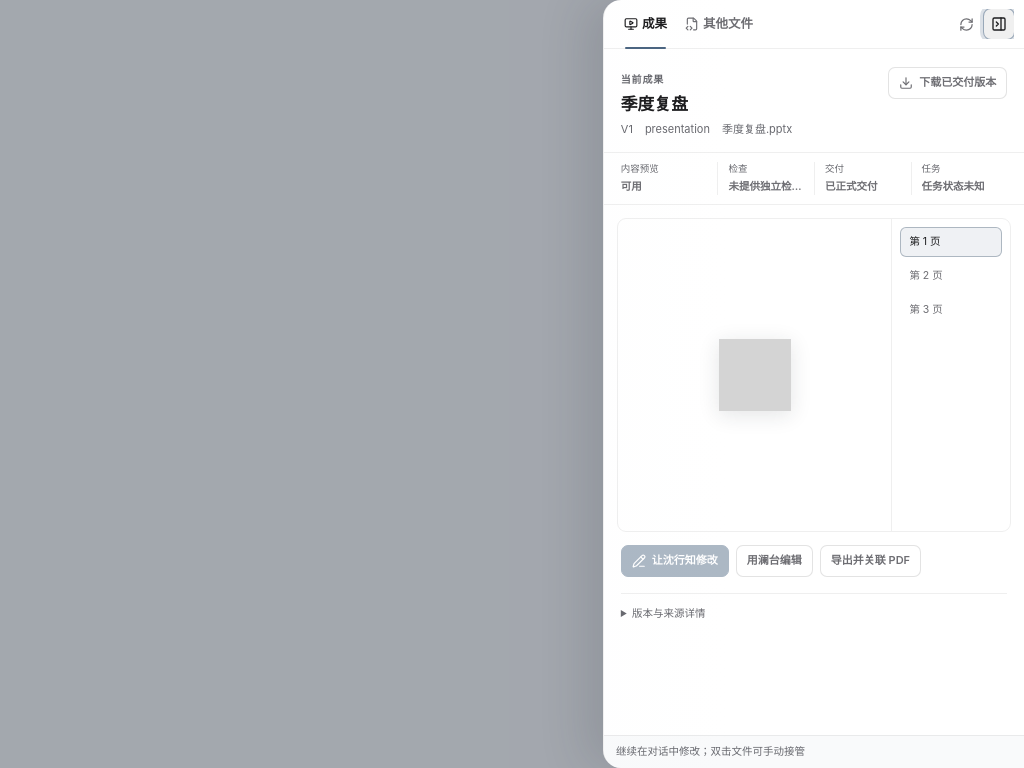
it: ChatArtifactPanel › exports a presentation as an explicitly related PDF without replacing the primary
The image size is (1024, 768).
Check: the heading "季度复盘" is shown, box [621,94,688,114]
Click the button "导出并关联 PDF".
click(870, 561)  # box [820,545,921,577]
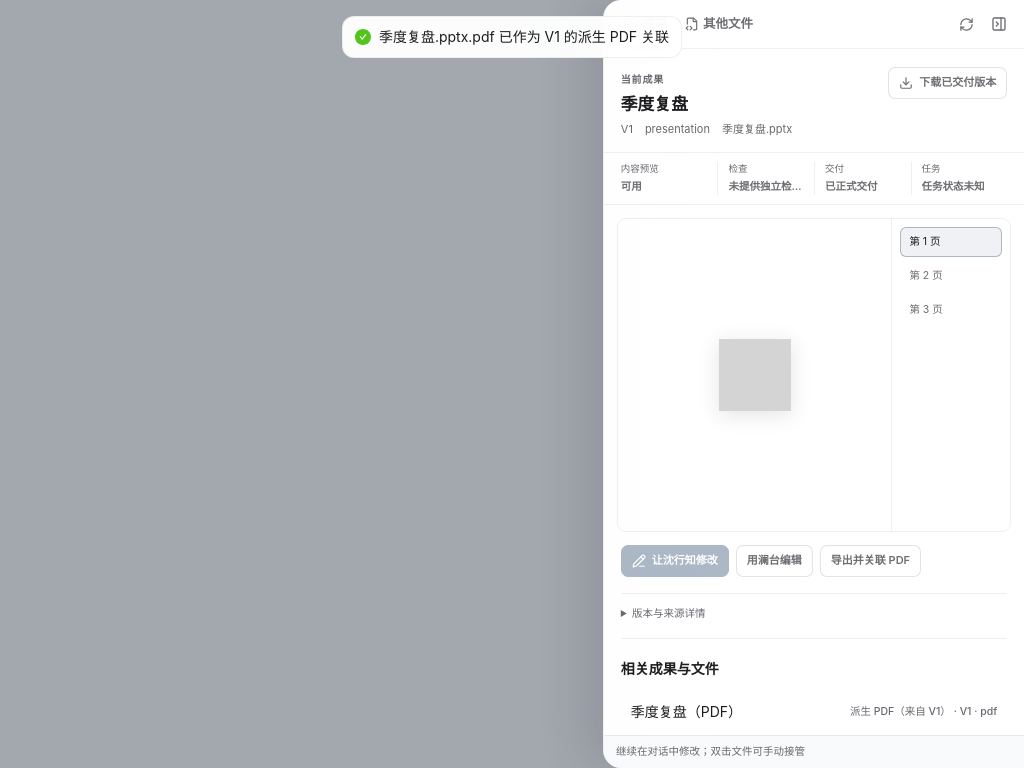
Check: the heading "季度复盘" is shown, box [621,94,688,114]
Check: the text "季度复盘（PDF）" is shown, box [631,701,742,723]
Check: the text "派生 PDF（来自 V1） · V1 · pdf" is shown, box [850,704,997,720]
